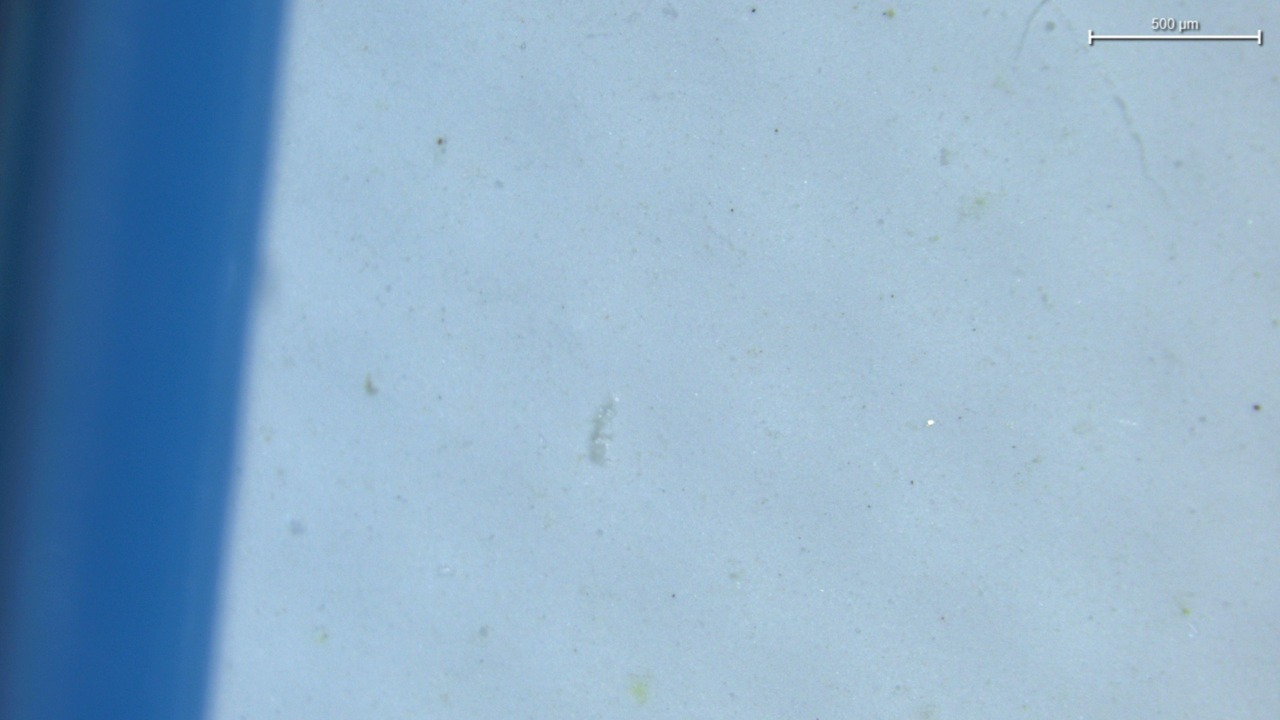microplastic_fragment: (588, 397, 617, 465)
